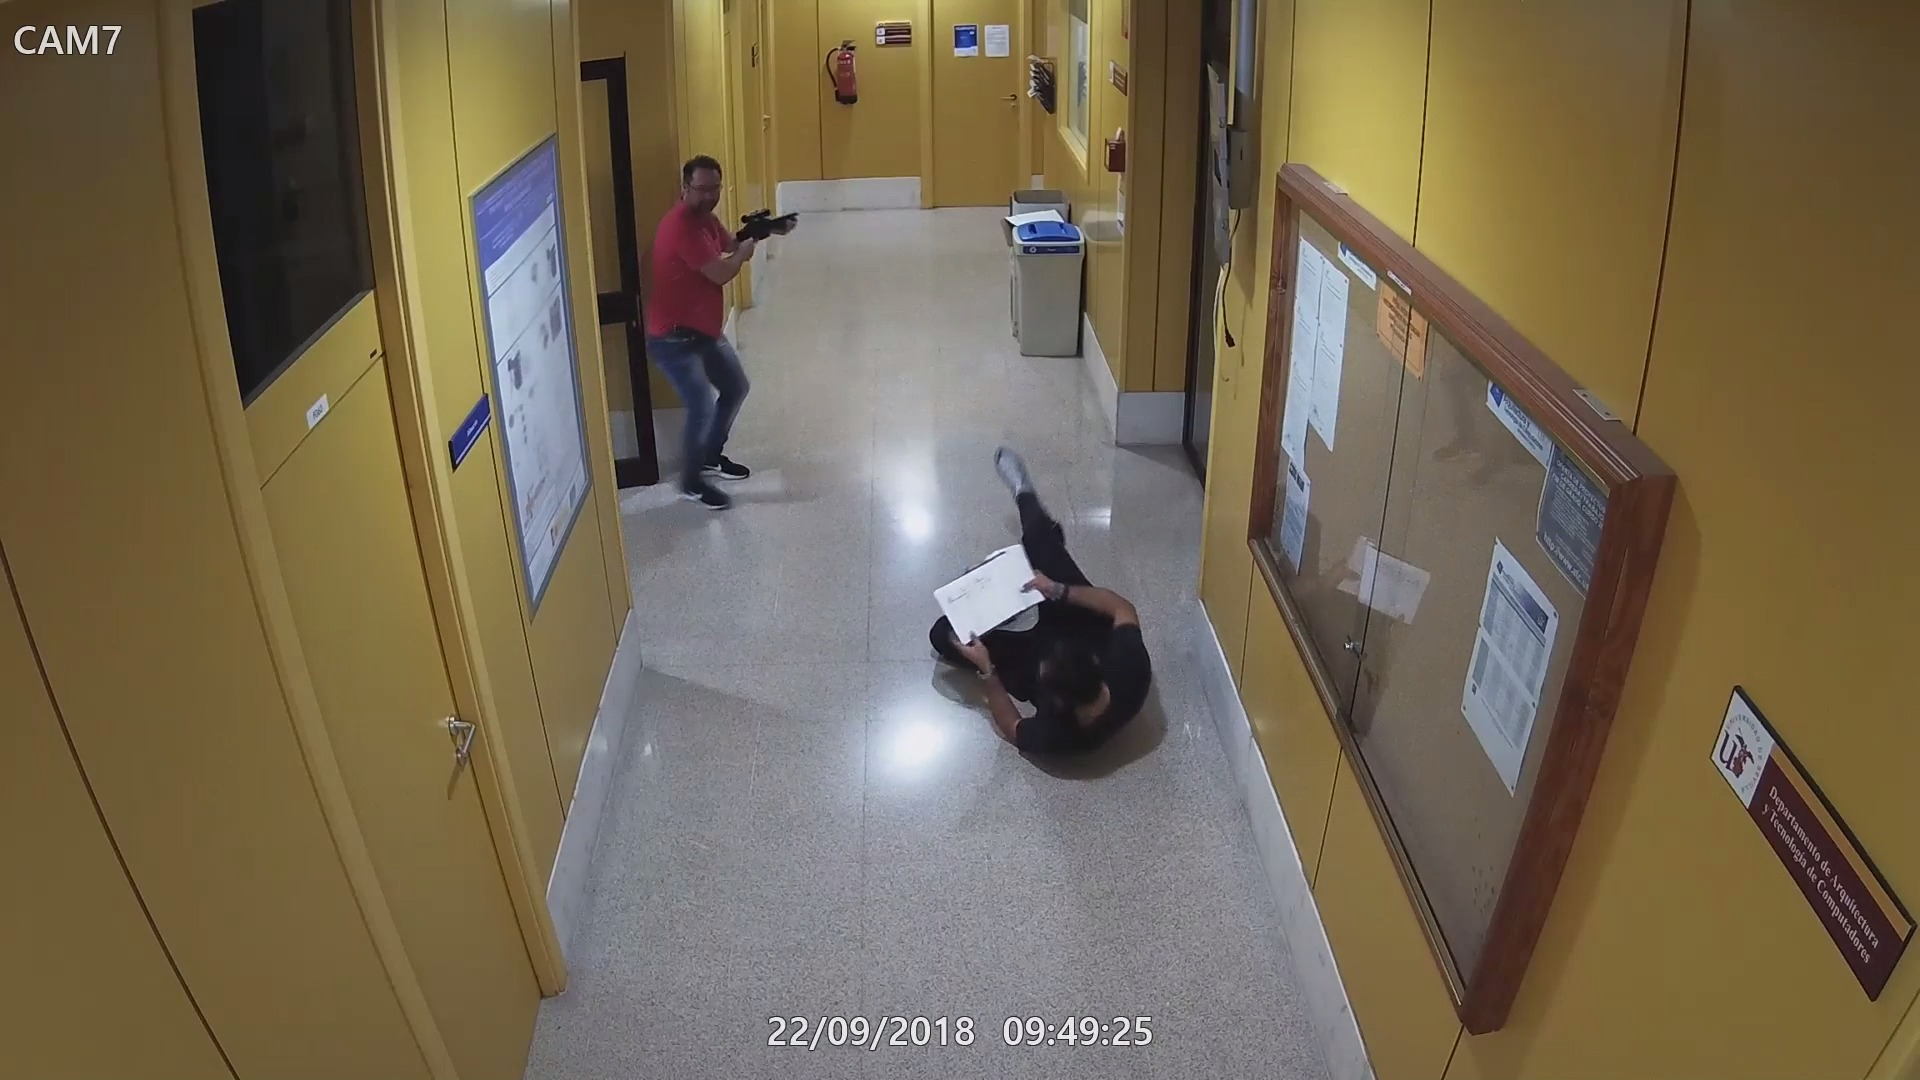Short_rifle: (729, 202, 803, 240)
